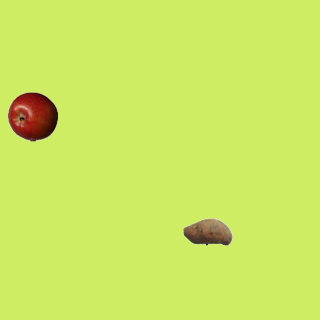Apple Braeburn: (7, 91, 57, 141)
Potato Sweet: (182, 206, 232, 256)
